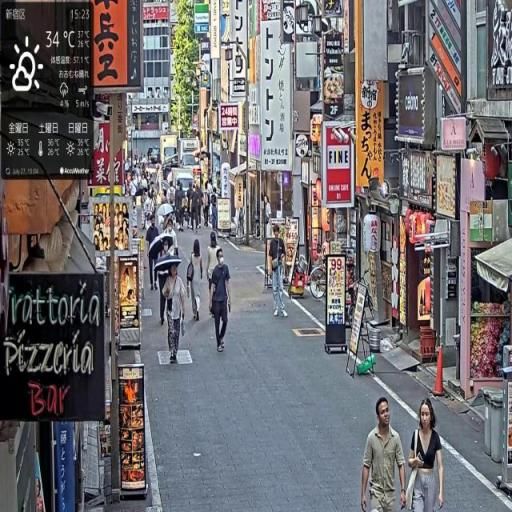person: (362, 396, 408, 511), (407, 396, 446, 512), (161, 262, 188, 364), (208, 248, 234, 353), (187, 238, 205, 322), (146, 216, 163, 293)
